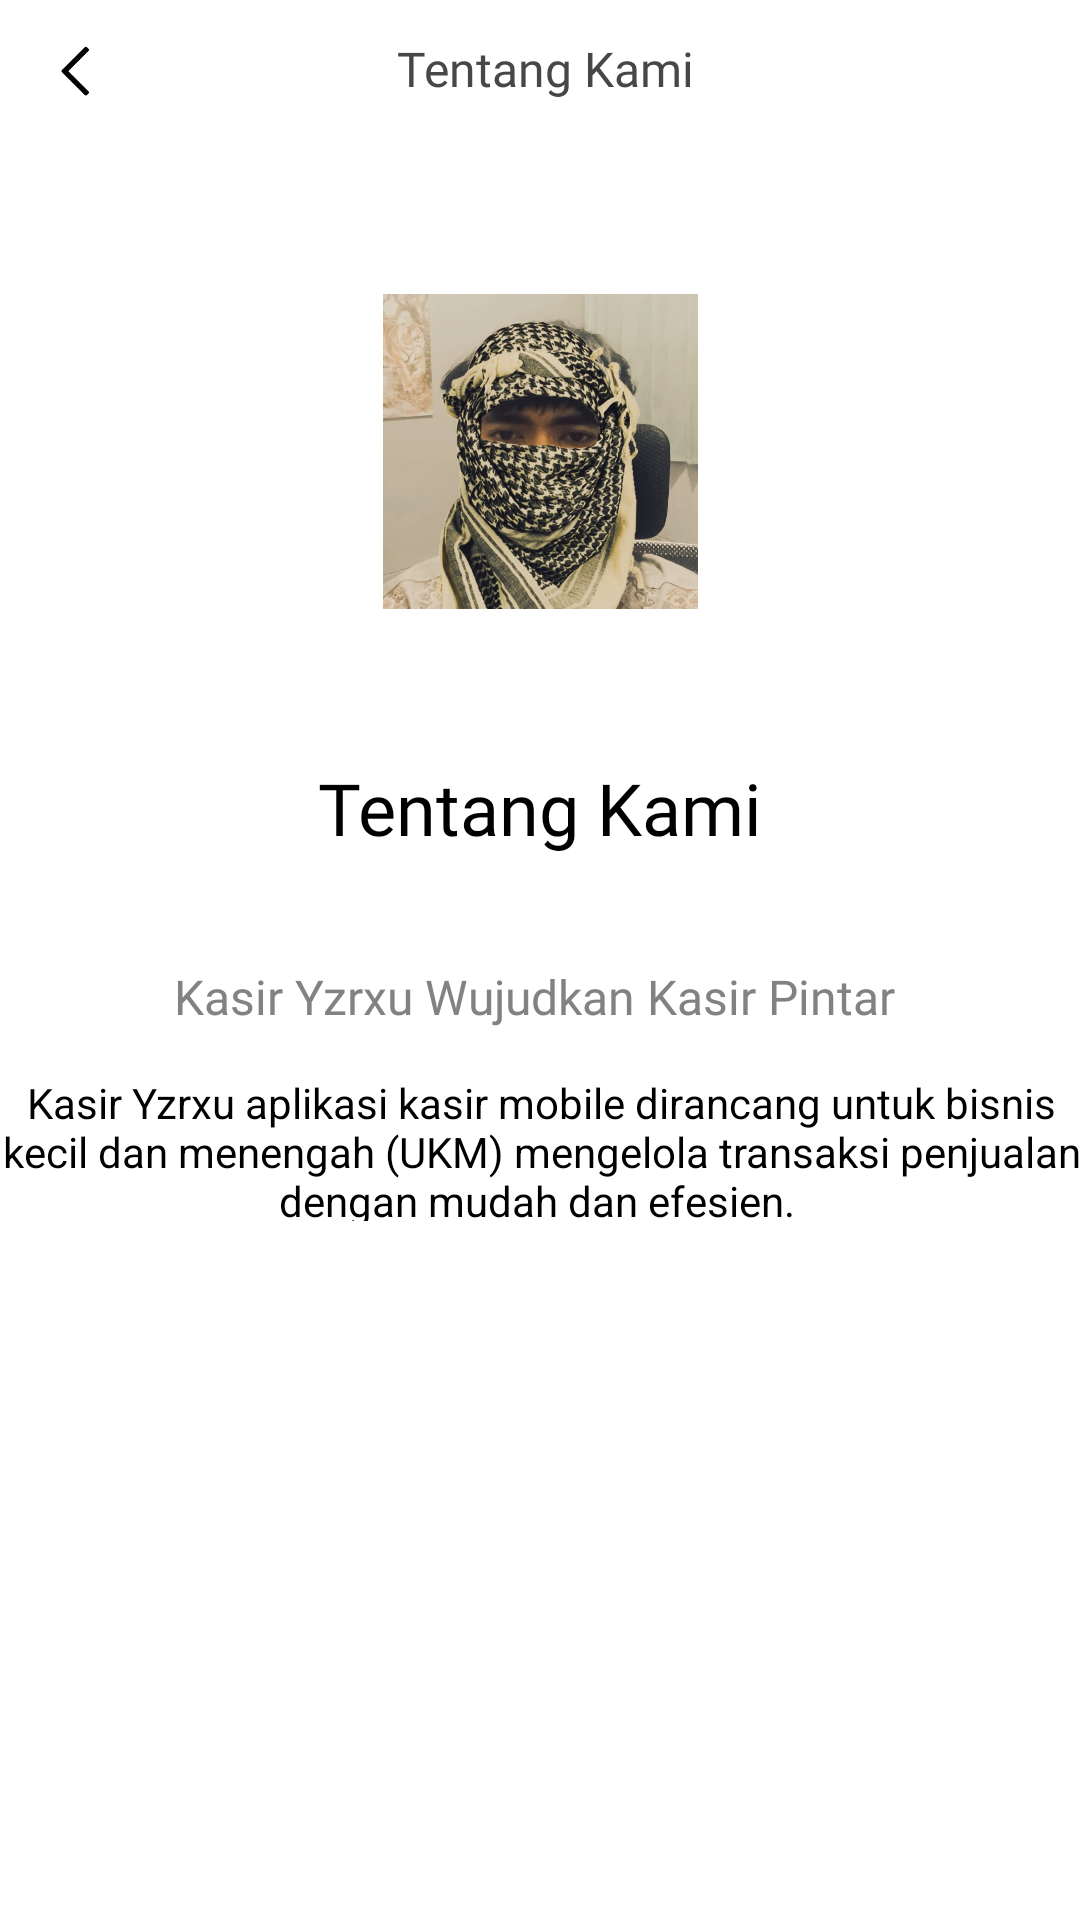

Point at icon controls on the screen. Image size 1080w x 1920h, points as point (x, y).
back: point (75, 71)
